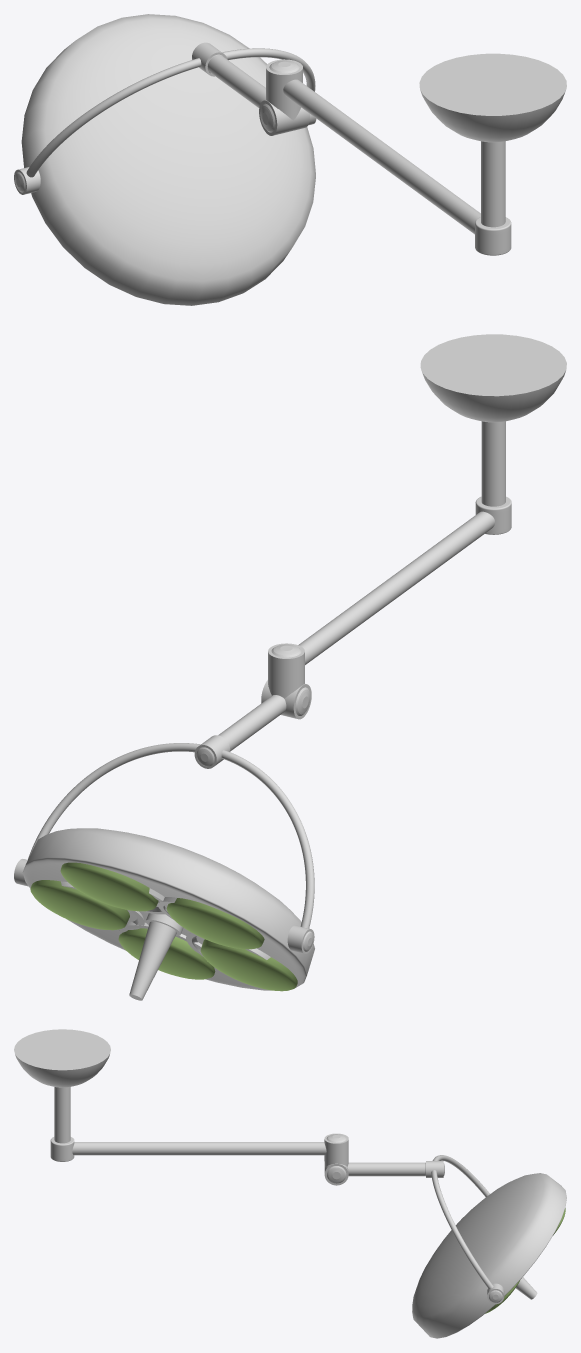
File: MS Surgical Light.fbx
3 renders of one model, top to bottom at view 1: azimuth 30°, elevation 25°; view 2: azimuth 150°, elevation 25°; view 3: azimuth 270°, elevation 25°, orthographic. The views are drawn at different scales.
Parts seen in each view (by area): view 1: Light, Sphere052, Arm One, Torus001, Ceiling Arm, Arm Two, Cylinder045, Cylinder035, Cylinder029, Cylinder047, Cylinder044; view 2: Light, Sphere052, Arm One, Torus001, Bulb 03, Bulb 04, Bulb 02, Bulb 05, Ceiling Arm, Biulb 1, Handle, Cylinder045 (+3 smaller); view 3: Light, Sphere052, Arm One, Torus001, Arm Two, Ceiling Arm, Cylinder045, Cylinder035, Cylinder029.
Part boxes in pixels (x1=…): Light: x1=21, y1=14, x2=315, y2=305; Sphere052: x1=419, y1=53, x2=566, y2=142; Arm One: x1=283, y1=79, x2=480, y2=234; Torus001: x1=26, y1=48, x2=315, y2=177; Ceiling Arm: x1=481, y1=141, x2=505, y2=227; Arm Two: x1=207, y1=55, x2=265, y2=107; Cylinder045: x1=266, y1=59, x2=302, y2=109; Cylinder035: x1=475, y1=217, x2=511, y2=255; Cylinder029: x1=259, y1=100, x2=309, y2=135; Cylinder047: x1=14, y1=167, x2=40, y2=194; Cylinder044: x1=192, y1=42, x2=227, y2=76; Light: x1=22, y1=828, x2=314, y2=990; Sphere052: x1=420, y1=334, x2=566, y2=422; Arm One: x1=298, y1=511, x2=494, y2=664; Torus001: x1=28, y1=743, x2=314, y2=928; Bulb 03: x1=60, y1=862, x2=158, y2=911; Bulb 04: x1=166, y1=898, x2=264, y2=949; Bulb 02: x1=30, y1=880, x2=129, y2=930; Bulb 05: x1=200, y1=939, x2=297, y2=991; Ceiling Arm: x1=481, y1=421, x2=505, y2=506; Biulb 1: x1=118, y1=928, x2=215, y2=979; Handle: x1=129, y1=921, x2=176, y2=1000; Cylinder045: x1=268, y1=643, x2=304, y2=692; Light: x1=412, y1=1173, x2=566, y2=1338; Sphere052: x1=14, y1=1029, x2=110, y2=1087; Arm One: x1=72, y1=1142, x2=326, y2=1155; Torus001: x1=431, y1=1155, x2=493, y2=1289; Arm Two: x1=347, y1=1162, x2=425, y2=1176; Ceiling Arm: x1=54, y1=1087, x2=70, y2=1143; Cylinder045: x1=324, y1=1133, x2=348, y2=1164; Cylinder035: x1=50, y1=1137, x2=74, y2=1161; Cylinder029: x1=324, y1=1163, x2=348, y2=1185.
Bounding box in the file's own units: 52.12 × 71.19 × 129.
